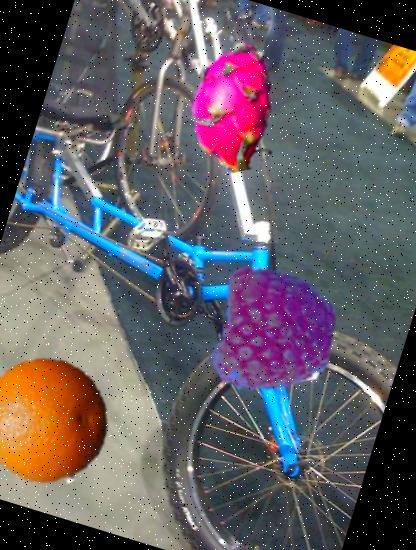Orange: (0, 341, 128, 503)
Pitahaya: (152, 28, 311, 188)
Raspberry: (196, 252, 356, 412)
